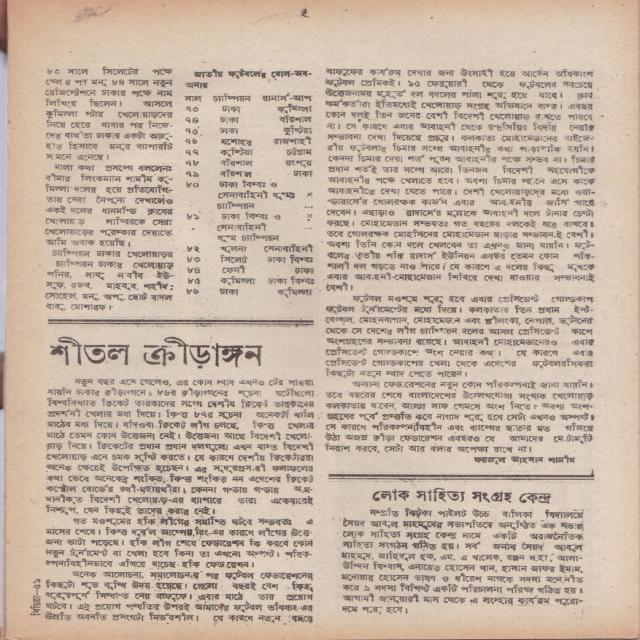page number: (32, 577, 42, 589)
paragraph: (324, 67, 597, 293), (44, 376, 315, 516), (340, 506, 585, 616), (323, 293, 596, 379), (324, 379, 596, 454), (44, 569, 315, 625), (44, 515, 314, 569), (44, 65, 174, 162), (44, 163, 175, 248), (44, 247, 175, 313)
table: (182, 92, 317, 300)
text: (215, 180, 297, 210), (214, 212, 282, 243), (473, 454, 577, 465), (264, 244, 315, 255), (266, 255, 315, 265), (275, 286, 314, 297), (267, 276, 314, 285), (218, 276, 259, 286), (210, 93, 252, 102), (260, 94, 313, 101), (271, 136, 312, 145), (29, 589, 42, 617), (217, 254, 250, 265), (218, 168, 254, 178), (219, 147, 254, 157), (219, 265, 249, 275), (274, 105, 314, 112), (282, 126, 313, 135), (221, 138, 252, 147), (219, 158, 253, 166), (283, 146, 312, 155), (219, 245, 248, 254), (277, 115, 312, 122), (283, 159, 312, 167), (219, 287, 241, 296), (218, 126, 239, 135), (293, 266, 313, 275), (292, 170, 313, 178), (182, 94, 202, 102), (221, 106, 243, 113), (184, 169, 201, 178), (184, 114, 199, 124), (220, 115, 238, 123), (183, 149, 201, 157), (185, 212, 201, 221), (187, 266, 202, 275), (184, 127, 200, 135), (186, 245, 200, 254), (185, 181, 200, 189), (185, 256, 202, 263), (184, 105, 200, 112), (185, 159, 199, 167), (186, 278, 202, 285), (186, 288, 200, 296), (185, 138, 197, 145)
title: (45, 333, 264, 370), (371, 487, 553, 505), (185, 68, 313, 90)
